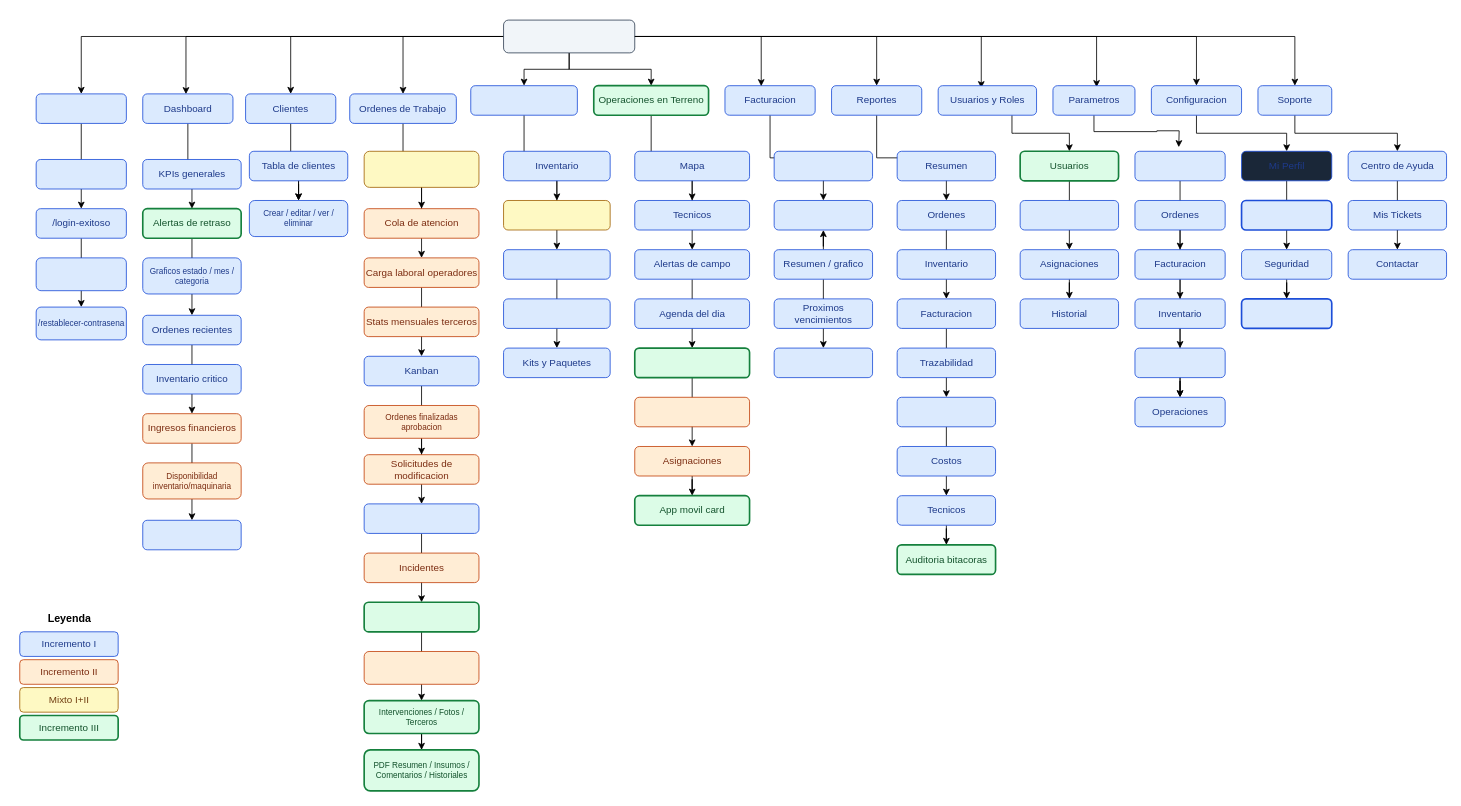
Some shapes in this 1461 by 806 pixel diagram are drawn without their labels. The shapes that lost their labels are listed below. From the top down, each one's centre as x and y in pixels, then its label:
the point at 569,36: Camus LDA - Admin
the point at 80,108: Auth
the point at 523,100: Recursos e Inventario
the point at 80,174: /login
the point at 421,168: KPIs + filtro urgencia + Nueva Orden
the point at 823,165: KPIs
the point at 1179,165: General
the point at 556,215: Equipos maquinaria
the point at 823,215: Tabla de facturas
the point at 1069,215: Roles y Permisos
the point at 1286,214: Apariencia
the point at 80,274: /recuperar-contrasena
the point at 556,264: Categorias
the point at 556,313: Proveedores
the point at 1286,313: Sistema
the point at 692,362: Ordenes en terreno
the point at 823,362: Pagos recientes
the point at 1179,362: Notificaciones
the point at 692,411: Disponibilidad operadores
the point at 946,411: Activos fisicos
the point at 191,534: Acciones rapidas
the point at 421,518: Ultimas ordenes tabla
the point at 421,616: Detalle OT drawer
the point at 421,667: Asignacion / Fechas / Duracion
